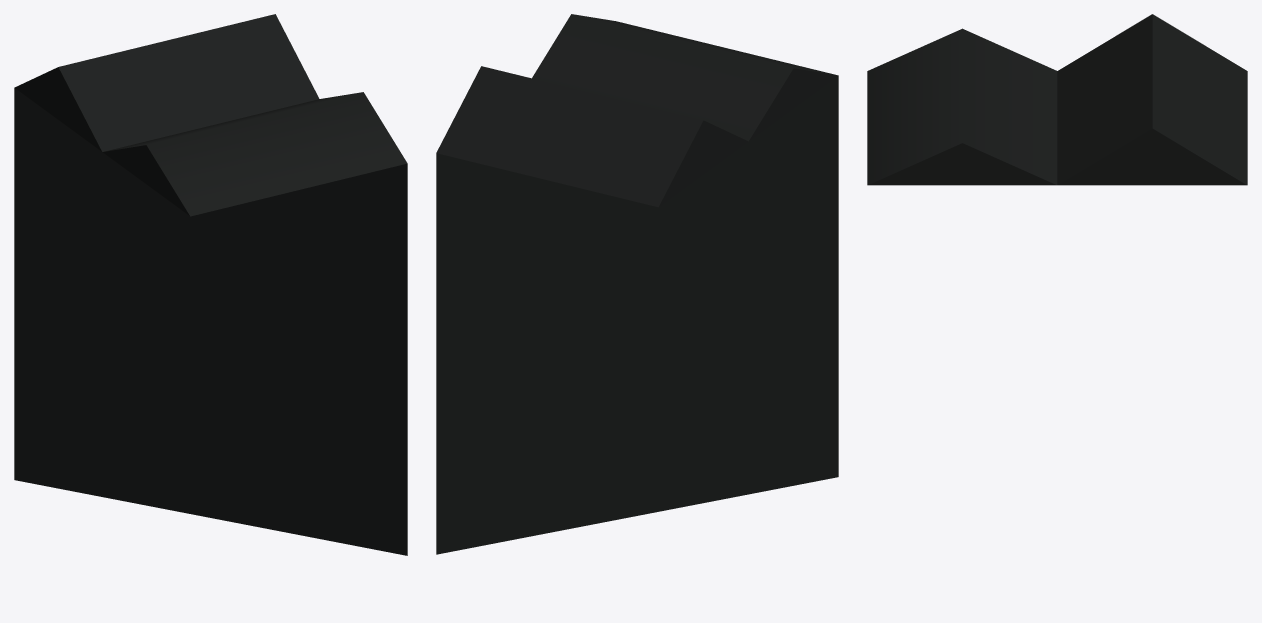
The model's file is AMB_KODATE_D4_05.glb.
The picture shows the model from 3 angles, left to right: view 1: azimuth 30°, elevation 25°; view 2: azimuth 150°, elevation 25°; view 3: azimuth 270°, elevation 25°; orthographic projection. The views are drawn at different scales.
Visible parts, largest first — view 1: BASE; view 2: BASE; view 3: BASE.
Boxes of the visible parts, bbox=[...] form: BASE: bbox=[14, 14, 407, 555]; BASE: bbox=[436, 14, 838, 554]; BASE: bbox=[867, 14, 1247, 185].
Size of the model in its own units: 34.96 by 68.48 by 49.08.
Materials: 1 (1 with a texture image).
